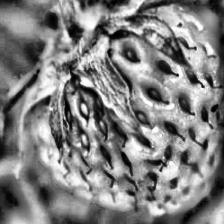Anthracnose Fruit Rot: (45, 40, 139, 175)
